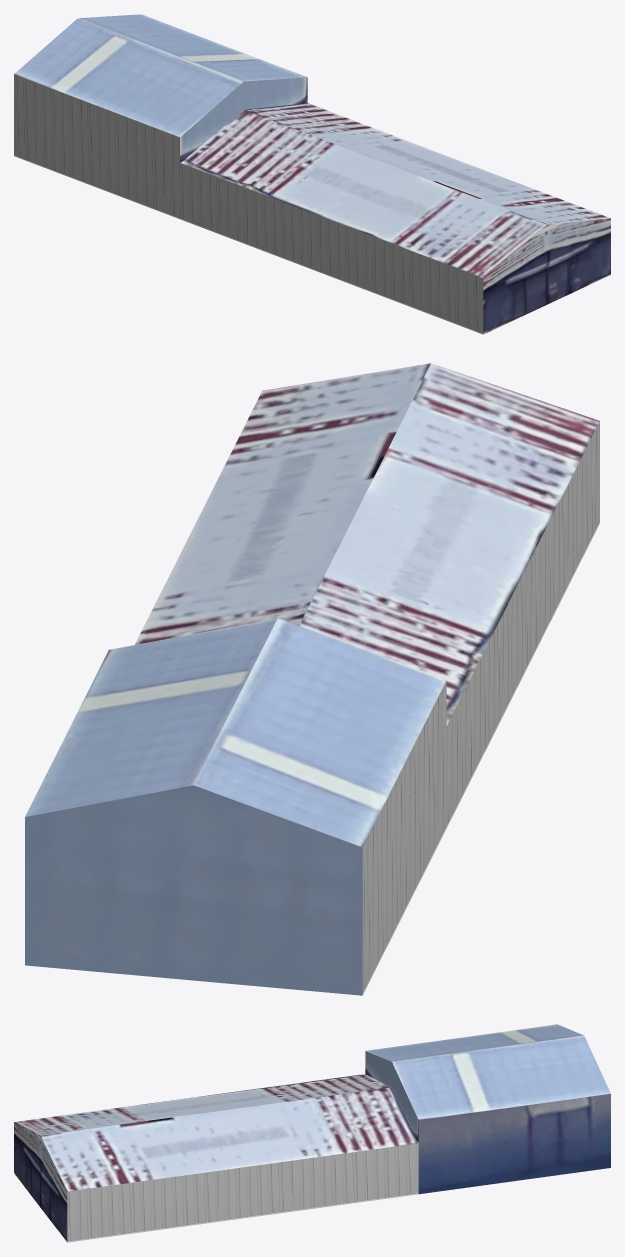
File: Lecu_eurocopanexo2.gltf
3 views of the same model, one above another, from view 1: azimuth 30°, elevation 25°; view 2: azimuth 150°, elevation 25°; view 3: azimuth 270°, elevation 25° (orthographic). The views are drawn at different scales.
Visible parts, largest first — view 1: eurocopter_small2; view 2: eurocopter_small2; view 3: eurocopter_small2.
Boxes of the visible parts, bbox=[...] form: eurocopter_small2: bbox=[14, 14, 610, 334]; eurocopter_small2: bbox=[25, 363, 599, 995]; eurocopter_small2: bbox=[14, 1024, 610, 1242].
Bounding box in the file's own units: 23.95 × 7.57 × 41.95.
